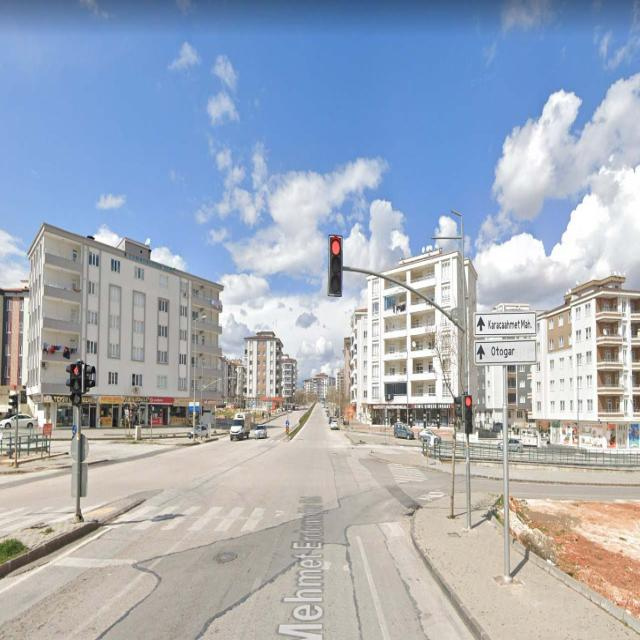kirmizi: (330, 237, 342, 296), (465, 395, 473, 433)
